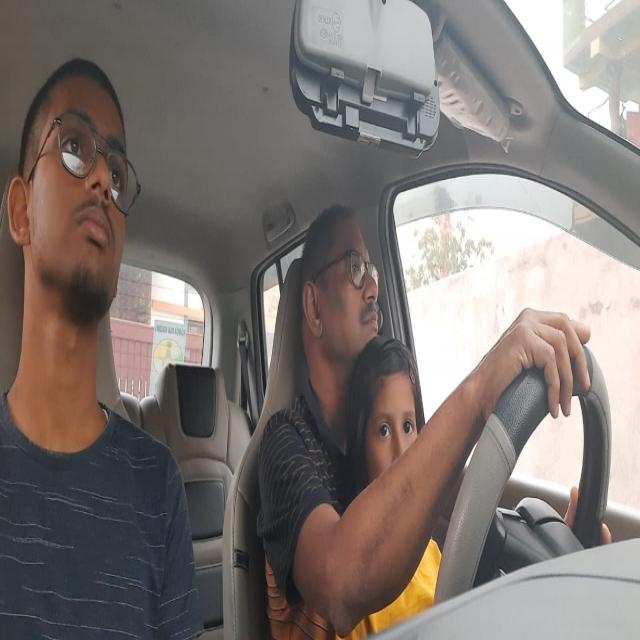child: (349, 338, 424, 482)
person: (8, 44, 134, 326), (299, 200, 386, 345)
